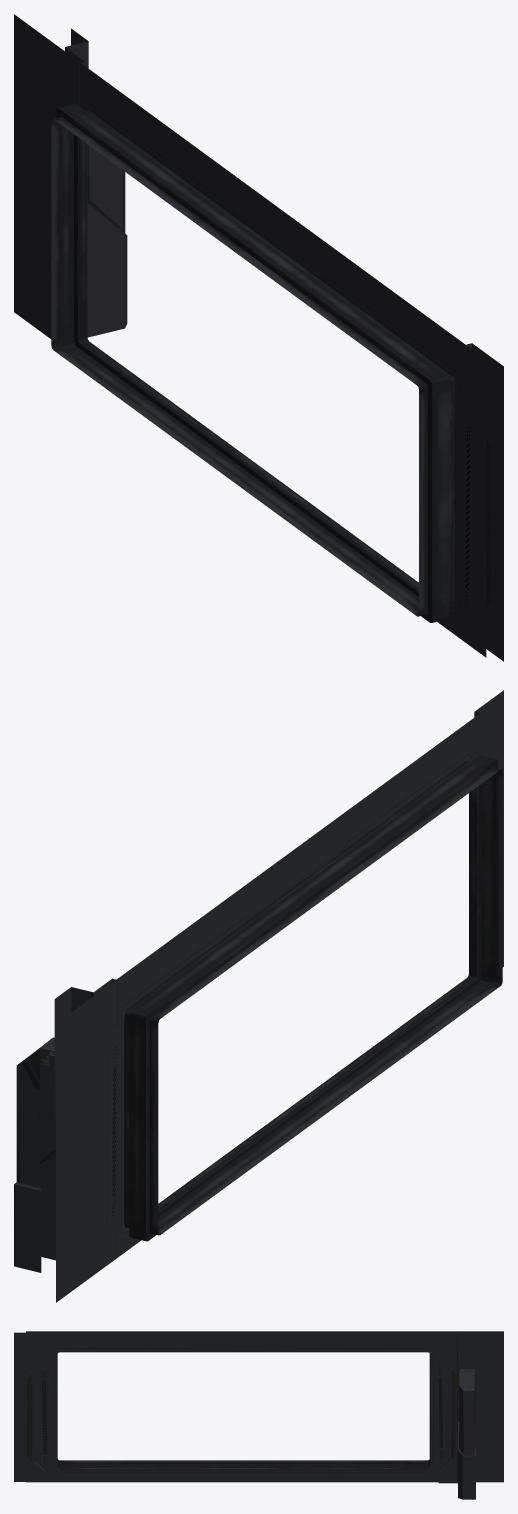
The model's file is Wall_with_porthole_main.glb.
3 renders of one model, top to bottom at view 1: azimuth 30°, elevation 25°; view 2: azimuth 150°, elevation 25°; view 3: azimuth 270°, elevation 25°, orthographic. The views are drawn at different scales.
Parts seen in each view (by area): view 1: The_column_is_large_low.001; view 2: The_column_is_large_low.001; view 3: The_column_is_large_low.001.
Boxes of the visible parts, bbox=[...] form: The_column_is_large_low.001: bbox=[14, 14, 503, 661]; The_column_is_large_low.001: bbox=[14, 690, 503, 1302]; The_column_is_large_low.001: bbox=[14, 1331, 503, 1499].
Bounding box in the file's own units: 0.8037 × 2.11 × 6.2.
1 material, 1 textured.
